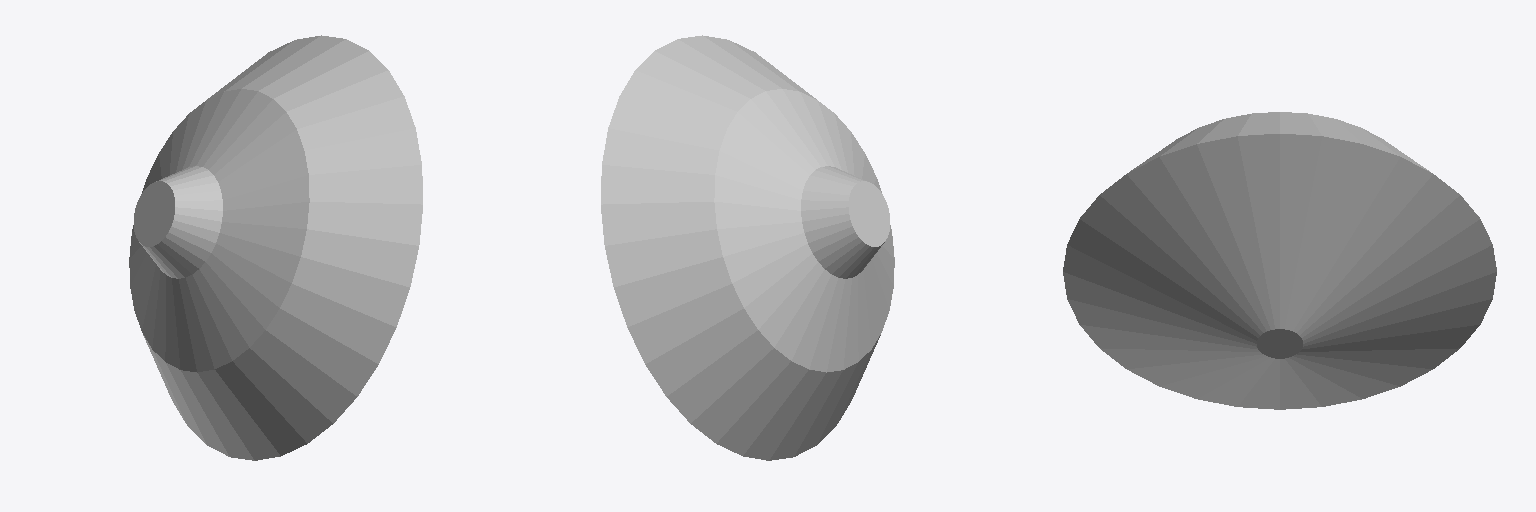
The model's file is LanderwHeatShield.obj.
3 renders of one model, left to right at view 1: azimuth 30°, elevation 25°; view 2: azimuth 150°, elevation 25°; view 3: azimuth 270°, elevation 25°, orthographic.
Parts seen in each view (by area): view 1: Circle; view 2: Circle; view 3: Circle.
Part boxes in pixels (x1,y1,x2,y2): Circle: (129, 35, 422, 460); Circle: (601, 35, 894, 460); Circle: (1063, 112, 1496, 409).
Size of the model in its own units: 2.17 by 3.24 by 3.59.